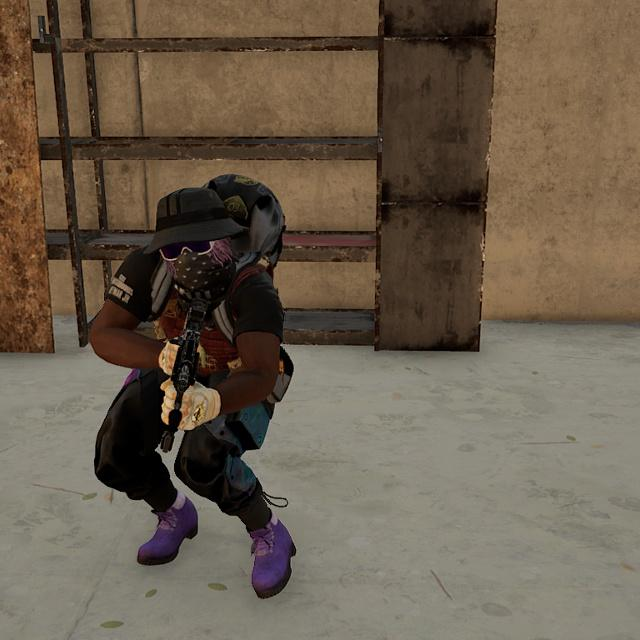head: (147, 183, 240, 292)
people: (81, 176, 321, 600)
